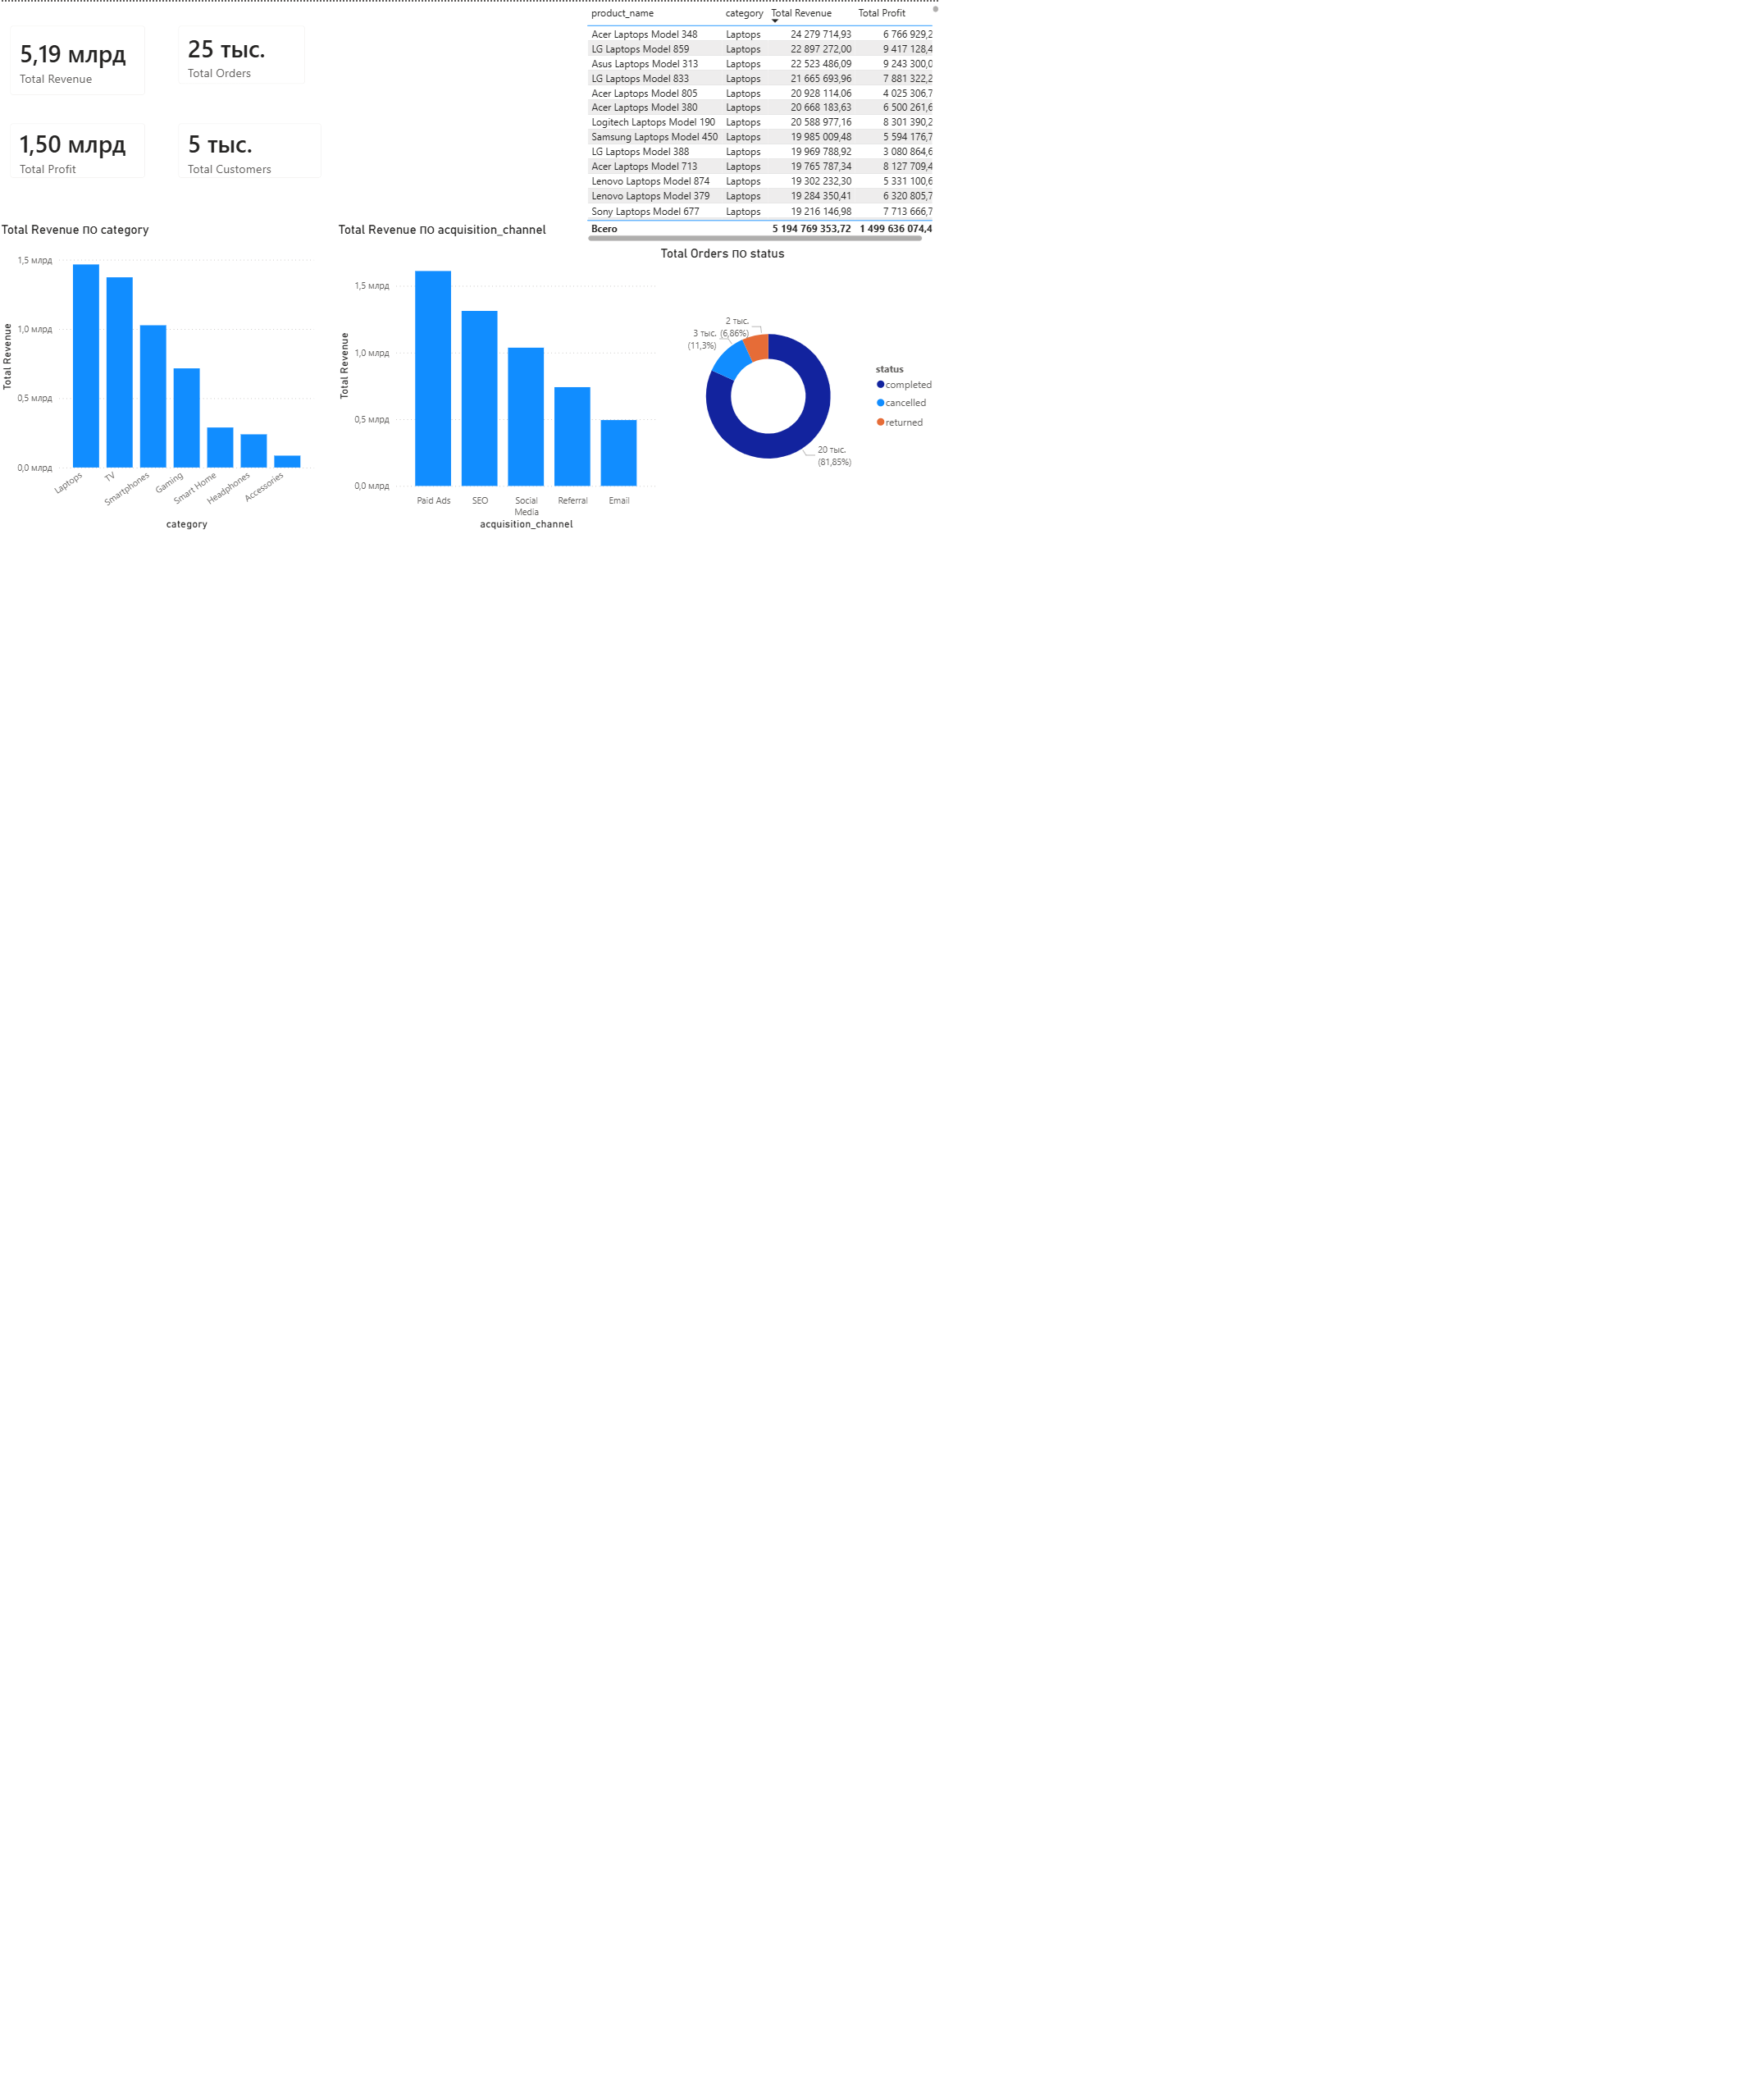

Layout of this report page (visuals, bound fields, positions):
{"tool":"powerbi","page":{"name":"Executive Overview","canvas":[1280,720],"ordinal":0},"visuals":[{"type":"cardVisual","fields":{"Data":["order_items.Total Revenue"]},"box":[0,15.6,217.8,128.9],"z":0},{"type":"cardVisual","fields":{"Data":["order_items.Total Profit"]},"box":[0,147.8,217.8,108.9],"z":1000},{"type":"cardVisual","fields":{"Data":["order_items.Total Orders"]},"box":[227.8,15.6,206.7,113.3],"z":2000},{"type":"cardVisual","fields":{"Data":["order_items.Total Customers"]},"box":[227.8,147.8,228.9,108.9],"z":3000},{"type":"clusteredColumnChart","fields":{"Category":["products.category"],"Y":["order_items.Total Revenue"]},"box":[0,297.8,434.4,422.2],"z":4000},{"type":"donutChart","fields":{"Category":["orders.status"],"Y":["order_items.Total Orders"]},"box":[893.3,330,386.7,390],"z":5000},{"type":"clusteredColumnChart","fields":{"Category":["customers.acquisition_channel"],"Y":["order_items.Total Revenue"]},"box":[456.7,297.8,441.1,422.2],"z":6000},{"type":"tableEx","fields":{"Values":["products.product_name","products.category","order_items.Total Revenue","order_items.Total Profit"]},"box":[793.3,0,486.7,330],"z":7000}]}

Visuals, with their boxes on the page's 1280x720 design canvas (x1, y1, x2, y2). These are canvas units, not pixel positions in the 1751x2100 screenshot, which may show the page scaled, cropped or inside an application window:
cardVisual - order_items.Total Revenue: 0, 16, 218, 144
cardVisual - order_items.Total Profit: 0, 148, 218, 257
cardVisual - order_items.Total Orders: 228, 16, 434, 129
cardVisual - order_items.Total Customers: 228, 148, 457, 257
clusteredColumnChart - products.category x order_items.Total Revenue: 0, 298, 434, 720
donutChart - orders.status x order_items.Total Orders: 893, 330, 1280, 720
clusteredColumnChart - customers.acquisition_channel x order_items.Total Revenue: 457, 298, 898, 720
tableEx - products.product_name x products.category: 793, 0, 1280, 330
